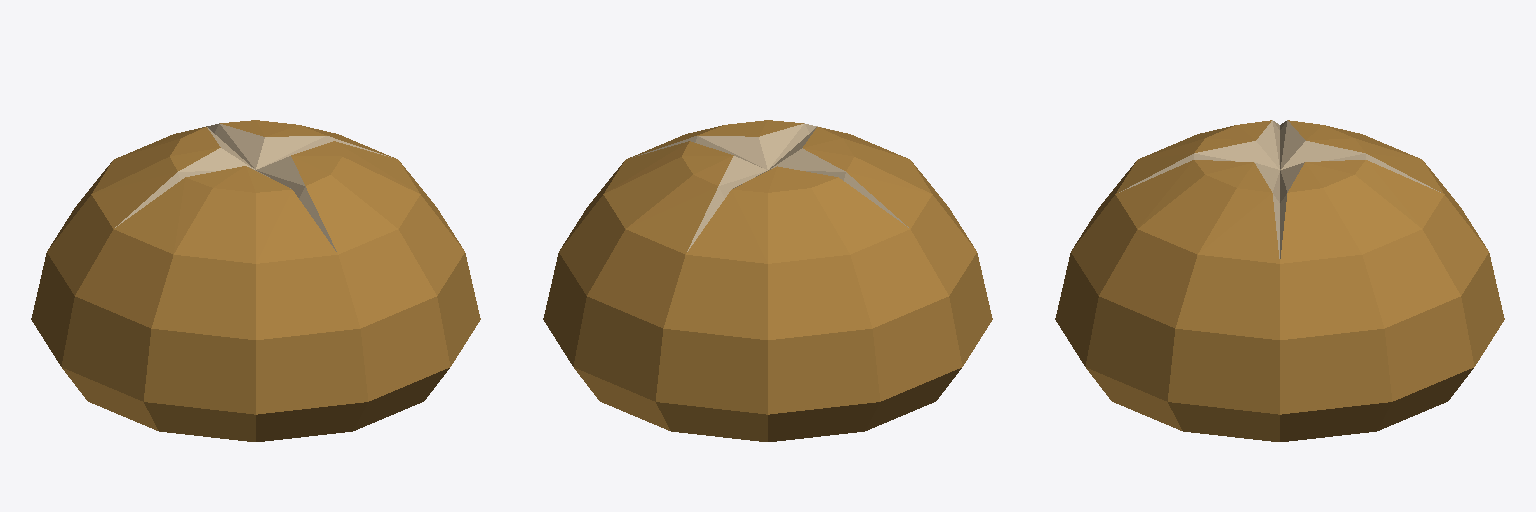
File: bread.obj
3 views of the same model, side by side, from view 1: azimuth 30°, elevation 25°; view 2: azimuth 150°, elevation 25°; view 3: azimuth 270°, elevation 25° (orthographic).
Parts seen in each view (by area): view 1: SplitTopBread.001; view 2: SplitTopBread.001; view 3: SplitTopBread.001.
Part boxes in pixels (left/top/right/bottom): SplitTopBread.001: left=31, top=120, right=480, bottom=441; SplitTopBread.001: left=543, top=120, right=992, bottom=441; SplitTopBread.001: left=1055, top=120, right=1504, bottom=441.
Size of the model in its own units: 1.74 by 0.8939 by 1.74.